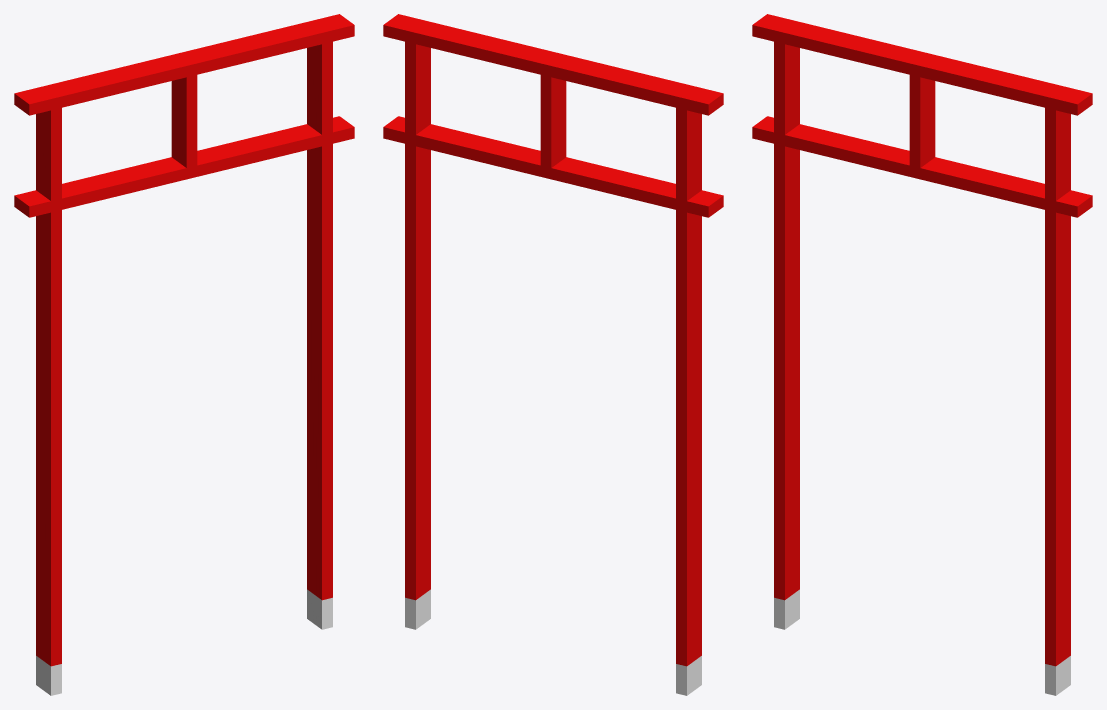
Rendered from Pintu 1.fbx.
3 renders of one model, left to right at view 1: azimuth 30°, elevation 25°; view 2: azimuth 150°, elevation 25°; view 3: azimuth 330°, elevation 25°, orthographic.
Parts seen in each view (by area): view 1: Group1; view 2: Group1; view 3: Group1.
Boxes of the visible parts, bbox=[...] form: Group1: bbox=[14, 14, 354, 695]; Group1: bbox=[383, 14, 723, 695]; Group1: bbox=[752, 14, 1092, 695].
Bounding box in the file's own units: 1.5 × 2.63 × 0.12.
